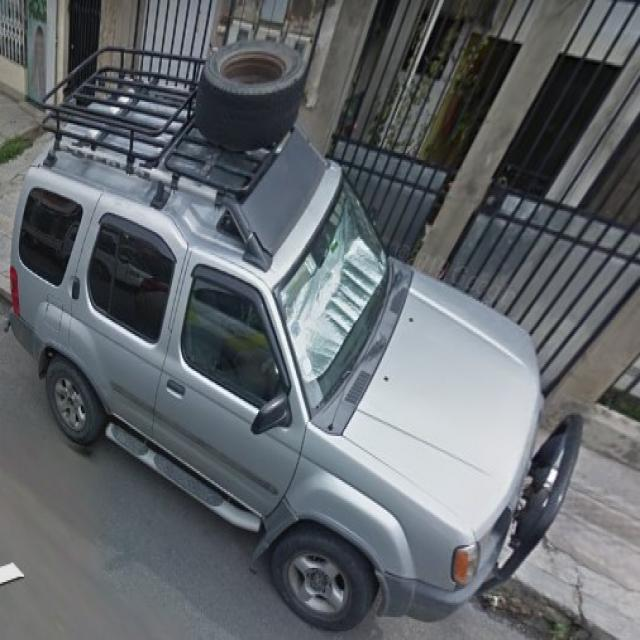cars: (28, 64, 572, 620)
